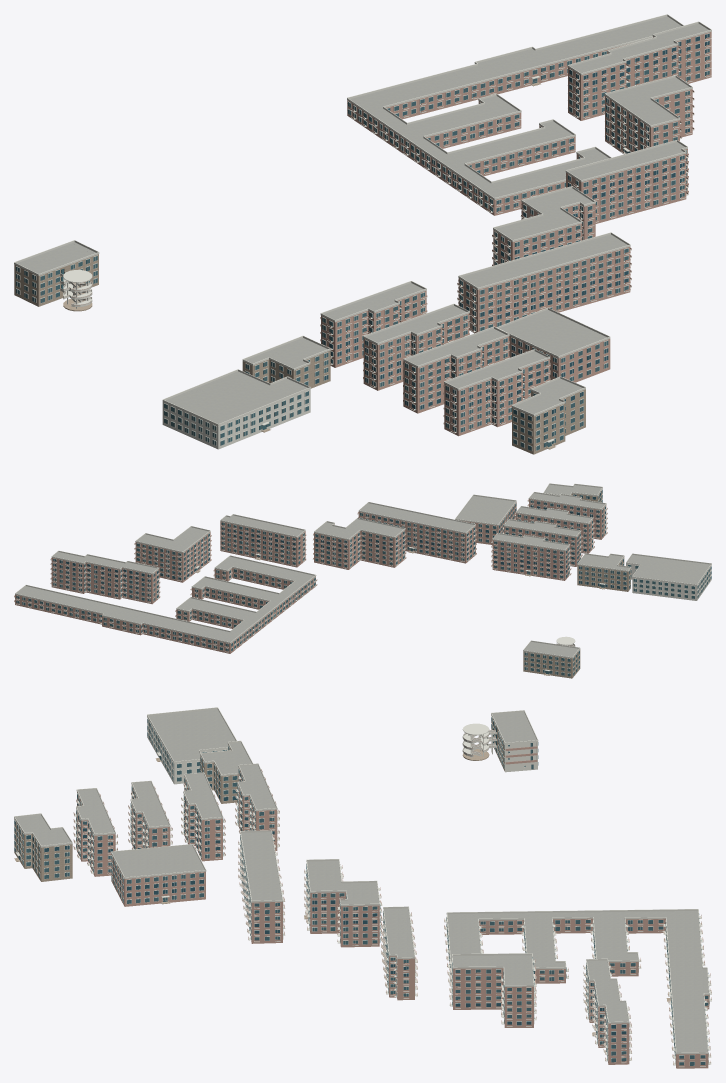
The model's file is chunk-p1-n1.glb.
3 views of the same model, one above another, from view 1: azimuth 30°, elevation 25°; view 2: azimuth 150°, elevation 25°; view 3: azimuth 270°, elevation 25° (orthographic). The views are drawn at different scales.
Visible parts, largest first — view 1: chunk-p1-n1; view 2: chunk-p1-n1; view 3: chunk-p1-n1.
Boxes of the visible parts, box(x1,y1,x2,y2) form: chunk-p1-n1: box(14, 14, 711, 454); chunk-p1-n1: box(14, 483, 711, 678); chunk-p1-n1: box(14, 707, 711, 1068).
Bounding box in the file's own units: 362 × 27.98 × 311.
Materials: 7 (2 with a texture image).
